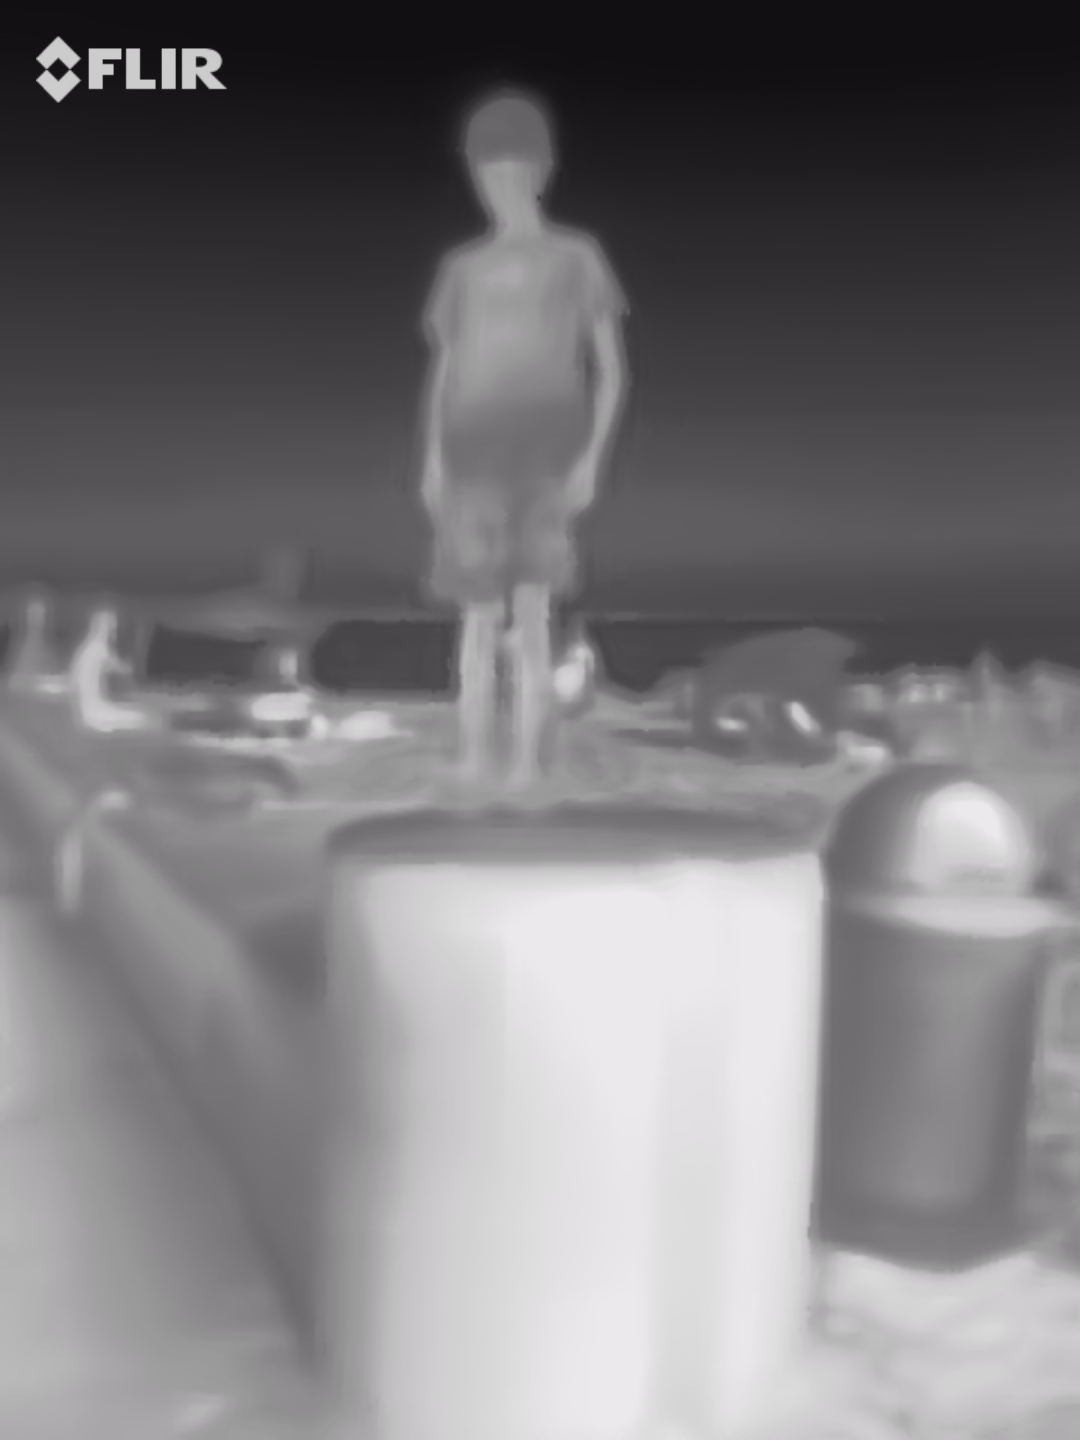head: (460, 92, 554, 236)
